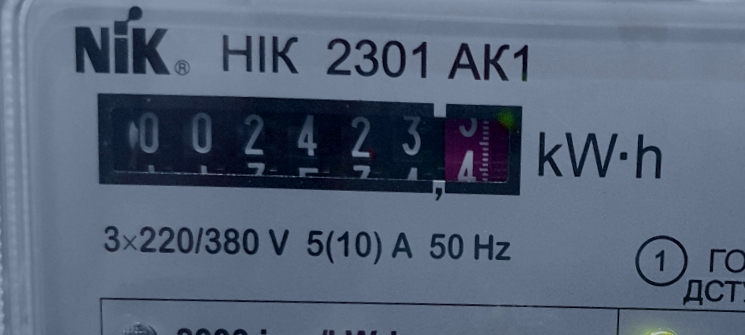0: (134, 107, 163, 157), (188, 110, 214, 156)
2: (239, 110, 267, 158), (347, 114, 372, 160)
3: (398, 112, 423, 158), (456, 115, 479, 138)
4: (294, 112, 318, 158), (453, 146, 479, 184)
screen: (82, 78, 537, 213)
